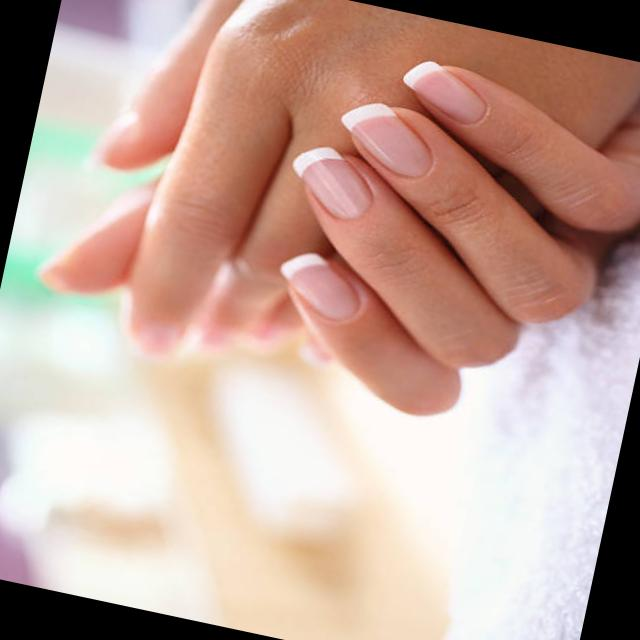Nail: (342, 102, 431, 176), (293, 145, 372, 218), (281, 252, 359, 320), (403, 60, 485, 123)
